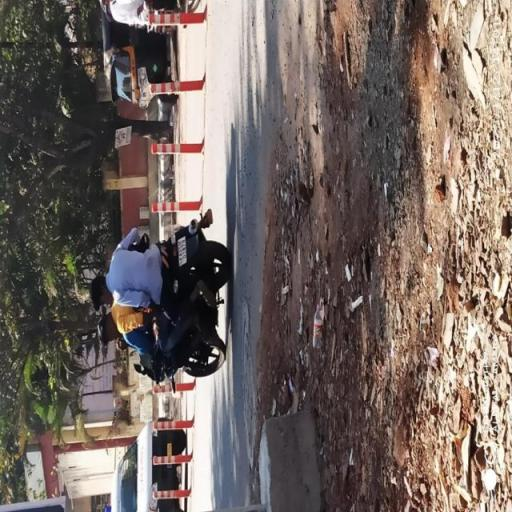tripple riding: (84, 225, 182, 377)
